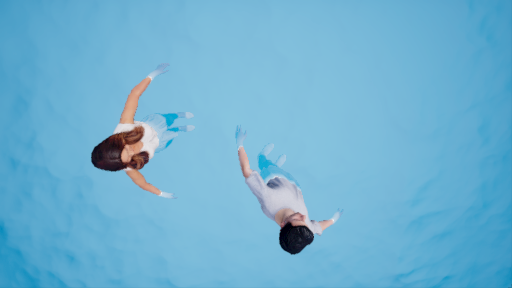person: (83, 57, 204, 200), (230, 124, 351, 256)
